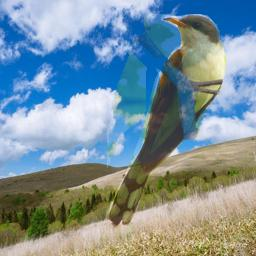Cuckoo: (107, 14, 226, 230)
